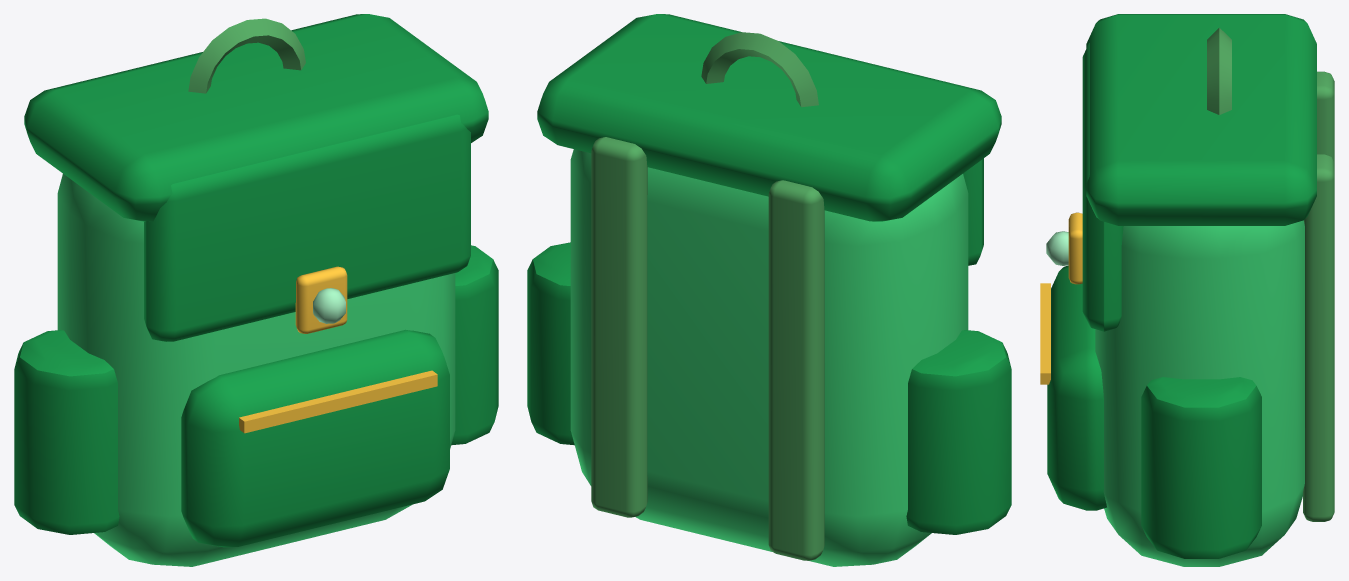
The model's file is EmeraldBackpack.fbx.
The picture shows the model from 3 angles, left to right: view 1: azimuth 30°, elevation 25°; view 2: azimuth 150°, elevation 25°; view 3: azimuth 270°, elevation 25°; orthographic projection. The views are drawn at different scales.
Visible parts, largest first — view 1: EmeraldBackpack; view 2: EmeraldBackpack; view 3: EmeraldBackpack.
Boxes of the visible parts, left/top/right/bottom form: EmeraldBackpack: left=14, top=14, right=498, bottom=566; EmeraldBackpack: left=527, top=14, right=1011, bottom=566; EmeraldBackpack: left=1040, top=14, right=1334, bottom=566.
Bounding box in the file's own units: 2.89 × 2.99 × 1.66.
1 material, 1 textured.
